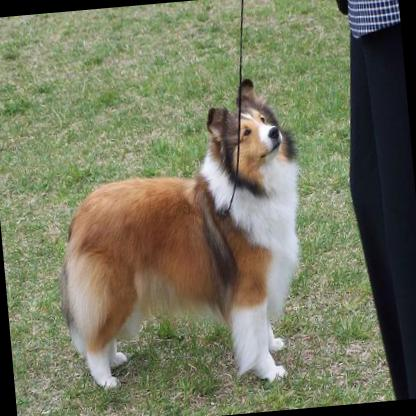collie: (41, 71, 319, 399)
